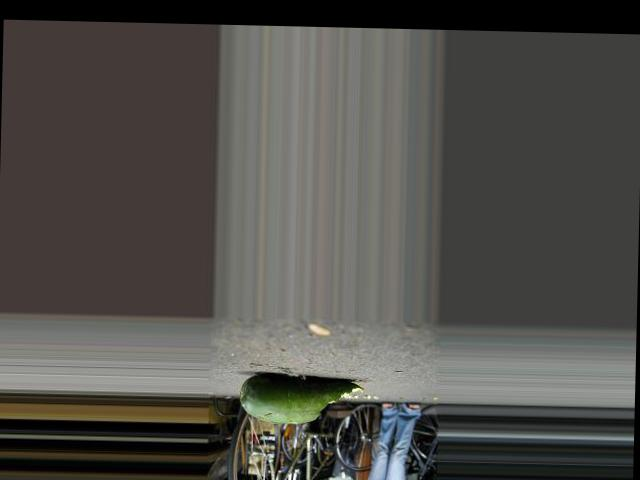cucumber: (239, 373, 365, 425)
